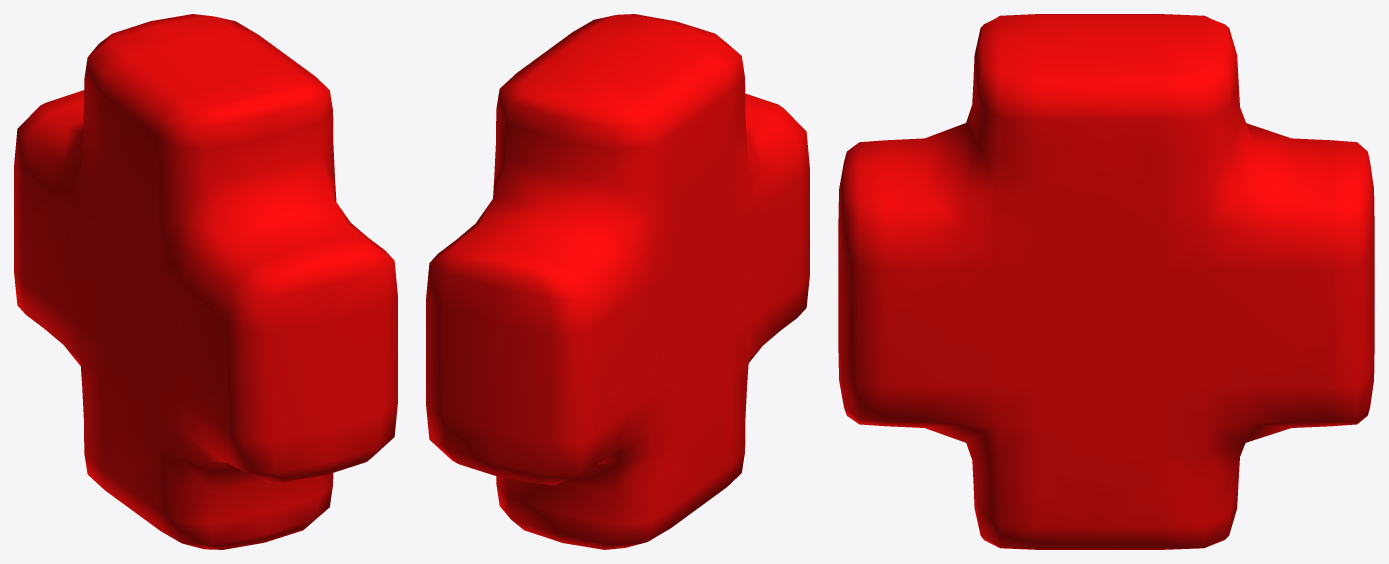
3 views of the same model, side by side, from view 1: azimuth 30°, elevation 25°; view 2: azimuth 150°, elevation 25°; view 3: azimuth 270°, elevation 25° (orthographic). The views are drawn at different scales.
Visible parts, largest first — view 1: 平面; view 2: 平面; view 3: 平面.
Boxes of the visible parts, x1,y1,x2,y2 form: 平面: [14, 14, 397, 549]; 平面: [426, 14, 809, 549]; 平面: [838, 14, 1374, 549].
Bounding box in the file's own units: 1.5 × 3.98 × 3.98.
Materials: 1 (1 with a texture image).
